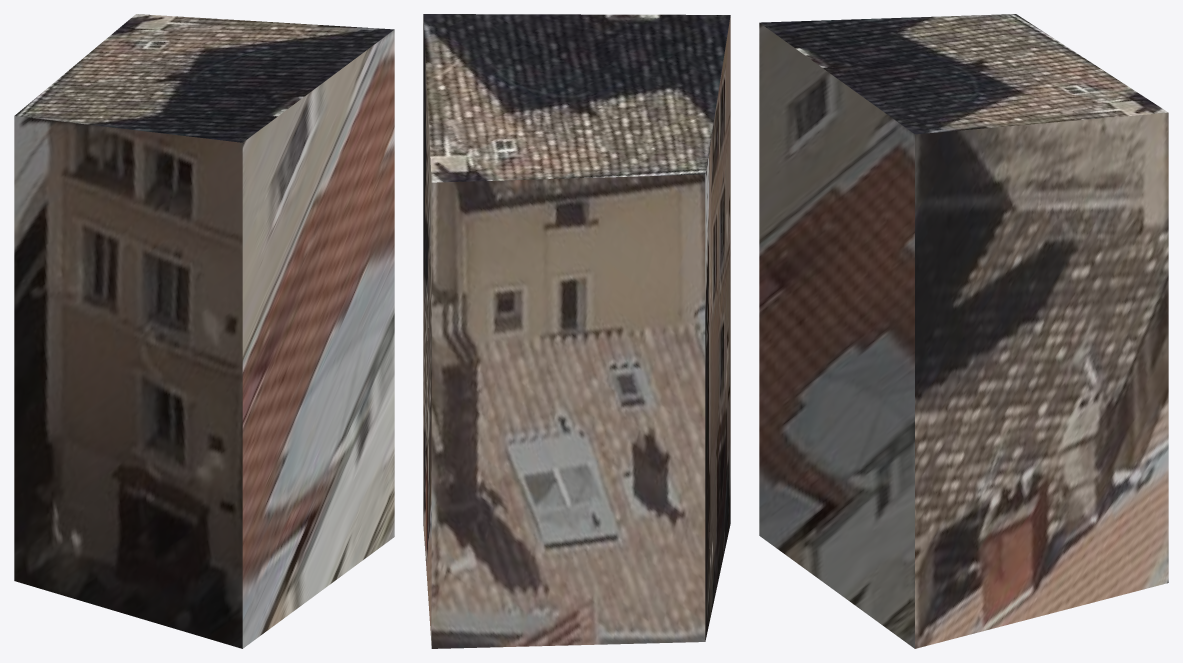
3 renders of one model, left to right at view 1: azimuth 30°, elevation 25°; view 2: azimuth 150°, elevation 25°; view 3: azimuth 270°, elevation 25°, orthographic.
Parts seen in each view (by area): view 1: Z_UP; view 2: Z_UP; view 3: Z_UP.
Part boxes in pixels (<box>): Z_UP: <box>14,14,394,648</box>; Z_UP: <box>423,14,730,648</box>; Z_UP: <box>759,14,1168,648</box>.
Bounding box in the file's own units: 9.1 × 13.35 × 9.62.
Materials: 2 (1 with a texture image).
